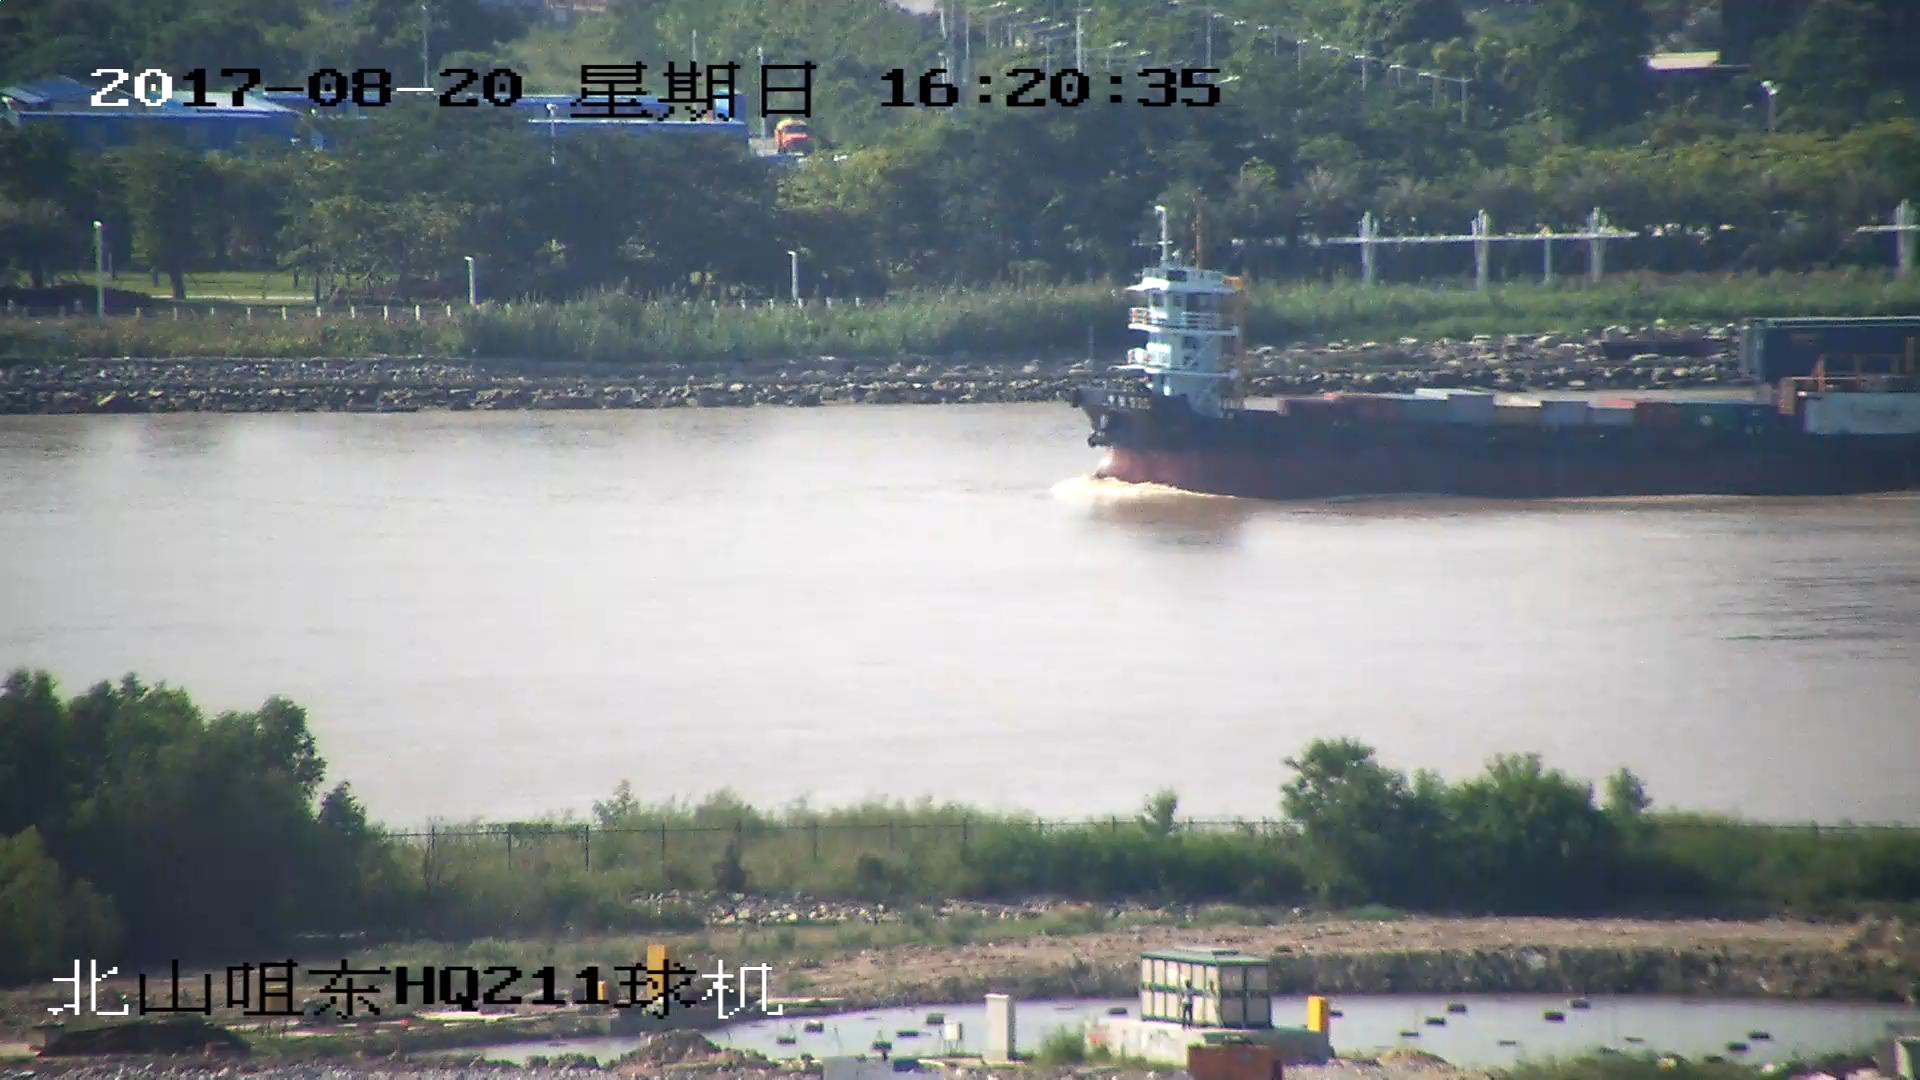container ship: (1078, 215, 1920, 502)
